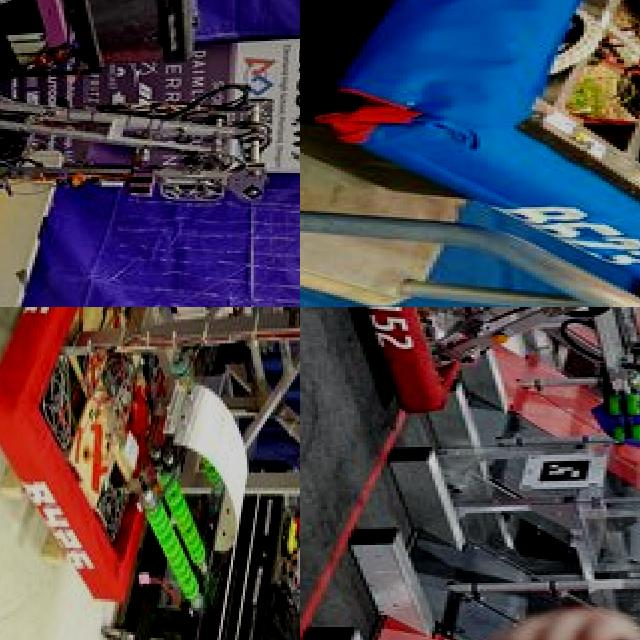FRC-Robots: (8, 307, 300, 640), (324, 0, 640, 305), (0, 49, 282, 233), (321, 307, 640, 458)
